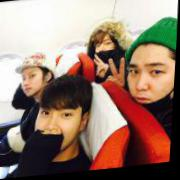NONE: (36, 101, 85, 155), (23, 68, 45, 98), (95, 39, 117, 66)
WRONG: (127, 53, 177, 115)
